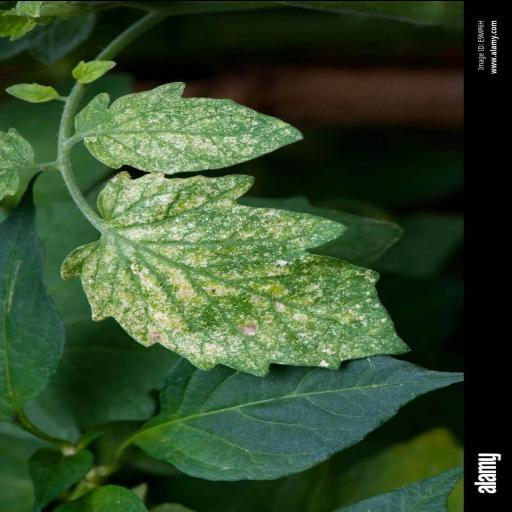disease_tomato: (59, 172, 413, 378), (76, 78, 306, 172)
